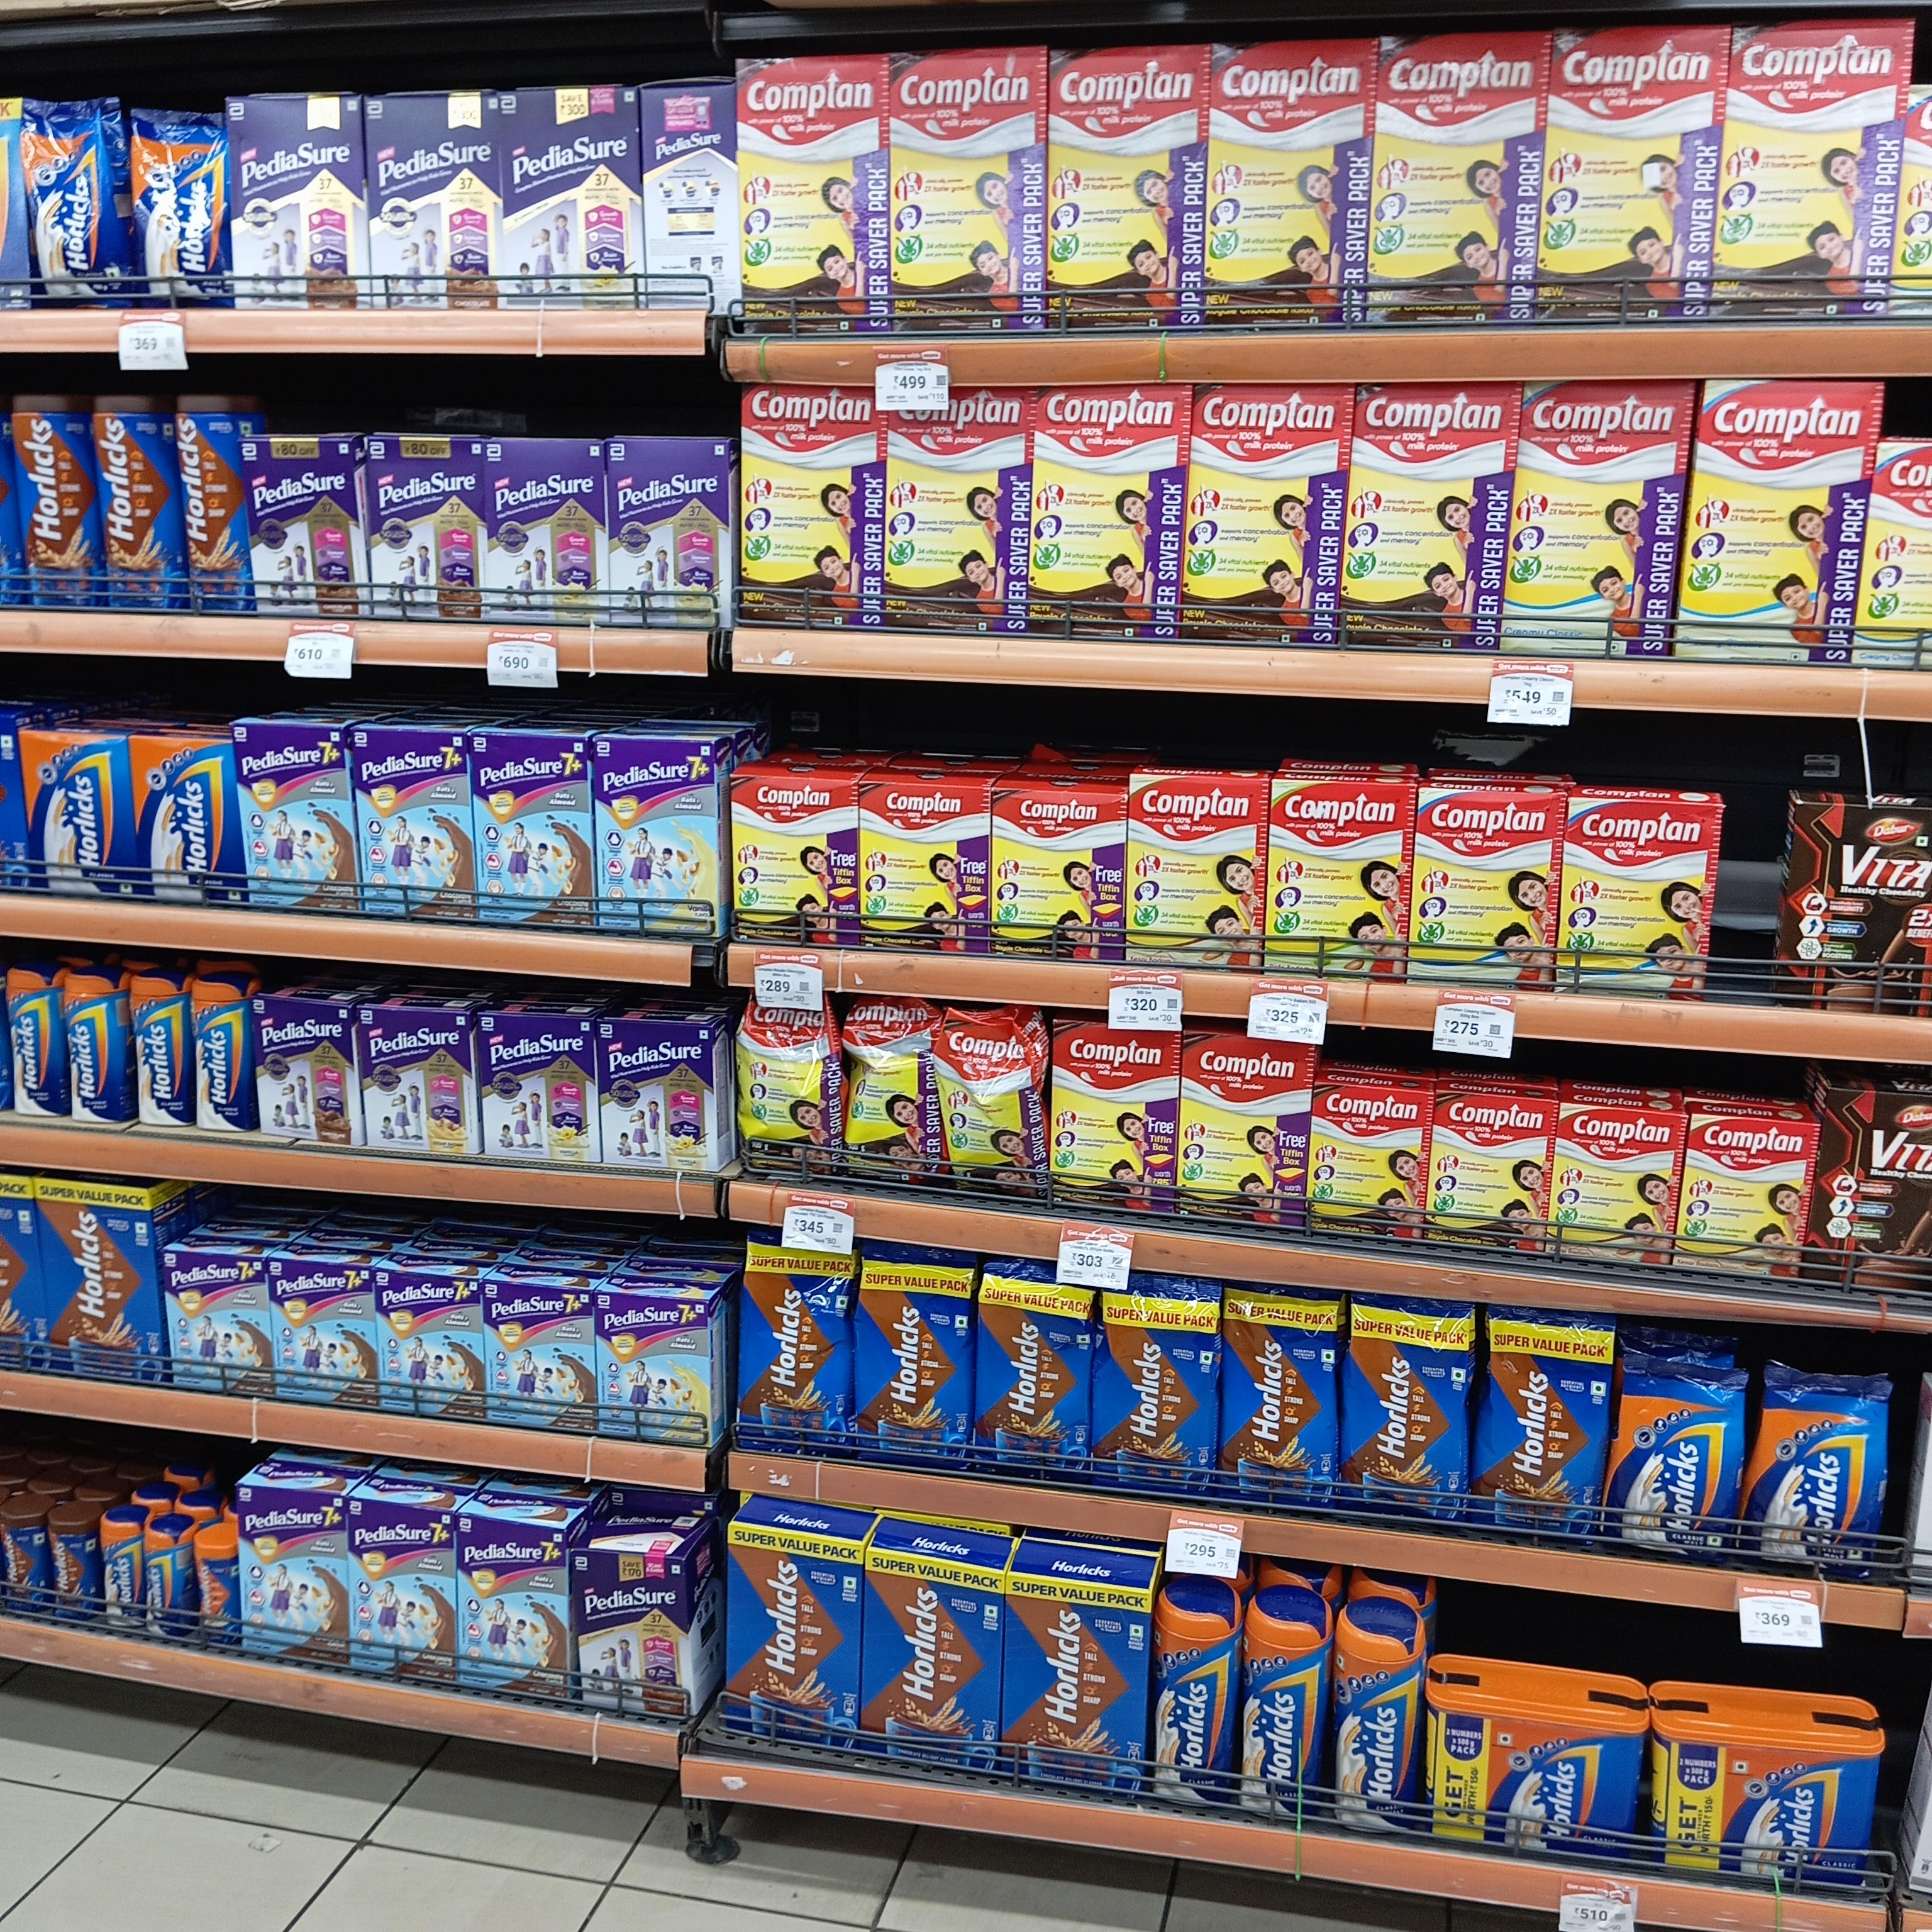COMPLAN_CHOCOLATE_1_KG_PACK: (1720, 18, 1898, 324), (1546, 28, 1713, 327), (1376, 32, 1534, 324), (890, 50, 1042, 340), (1350, 384, 1509, 656), (1210, 42, 1359, 333), (1051, 46, 1205, 324), (732, 57, 885, 334), (1191, 384, 1348, 628), (1030, 379, 1177, 633), (741, 382, 878, 628), (886, 393, 1023, 637), (1046, 1017, 1173, 1226), (1182, 1031, 1300, 1228)
COMPLAN_CHOCOLATE_500_GMS_PACK: (996, 789, 1125, 957), (858, 780, 987, 948), (725, 775, 851, 945), (1433, 1092, 1557, 1256), (1307, 1083, 1421, 1224)
COMPLAN_CREAMY_CLASSIC_500_G_PACK: (1568, 800, 1707, 1001), (1415, 789, 1550, 977)
COMPLAN_KESAR_BADAM_500_GMS_PACK: (1131, 778, 1261, 966), (1688, 1111, 1806, 1279), (1557, 1100, 1672, 1270)
COMPLAN_PISTA_BADAM_500_GMS_PACK: (1272, 778, 1403, 980)
COMPLAN_RC_POUCH_700_GMS_12: (932, 1014, 1039, 1203), (734, 994, 837, 1187), (849, 994, 932, 1185)
HORLICK_CHOCOLATE_1_KG_JAR: (90, 391, 179, 617), (4, 386, 80, 612), (177, 391, 241, 610)
HORLICK_CHOCOLATE_1_KG_PACK: (1007, 1580, 1145, 1810), (727, 1523, 858, 1757), (865, 1553, 1000, 1780), (32, 1182, 150, 1382)
HORLICK_CHOCOLATE_200_G_JAR: (48, 1516, 94, 1629), (0, 1502, 42, 1624)
HORLICK_CHOCOLATE_750_G_POUCH: (1486, 1318, 1612, 1546), (1224, 1292, 1341, 1518), (1346, 1306, 1467, 1523), (1099, 1277, 1214, 1499), (858, 1263, 971, 1481), (982, 1261, 1092, 1484), (743, 1251, 849, 1467)
HORLICK_CLASSIC_MALT_200_G_JAR: (99, 1511, 145, 1642), (143, 1520, 179, 1644)
HORLICK_CLASSIC_MALT_500_G_JAR: (1154, 1592, 1244, 1815), (1336, 1621, 1419, 1845), (1244, 1612, 1325, 1829), (0, 955, 62, 1122), (189, 975, 248, 1145), (65, 968, 126, 1132), (126, 973, 177, 1136)
HORLICK_CLASSIC_MALT_500_G_PACK: (21, 727, 126, 897), (133, 734, 226, 911)
HORLICK_CLASSIC_MALT_750_G_POUCH: (1753, 1376, 1877, 1576), (1622, 1369, 1736, 1559), (25, 97, 122, 304), (134, 104, 228, 306)
HORLICK_MALT_1_KG_CONTAINER: (1654, 1725, 1874, 1893), (1422, 1688, 1633, 1856)
PEDIASURE_7_PLUS_CHOCOLATE_400_G_PACK: (354, 725, 469, 922), (476, 734, 589, 927), (237, 722, 350, 913), (485, 1288, 596, 1430), (379, 1270, 479, 1422), (166, 1253, 269, 1396), (271, 1263, 368, 1405)
PEDIASURE_CHOCOLATE_500_G_PACK: (228, 97, 363, 318), (366, 97, 494, 308), (368, 435, 483, 621), (244, 442, 363, 614), (571, 1552, 690, 1716), (255, 996, 347, 1141)
PEDIASURE_VANILLA_500_G_PACK: (497, 94, 642, 308), (609, 441, 725, 628), (488, 441, 603, 623), (354, 1005, 471, 1155), (478, 1017, 591, 1162), (598, 1021, 706, 1168)
